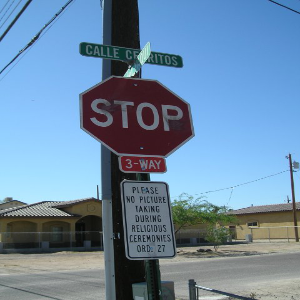STOP_SIGN: (78, 75, 195, 157)
